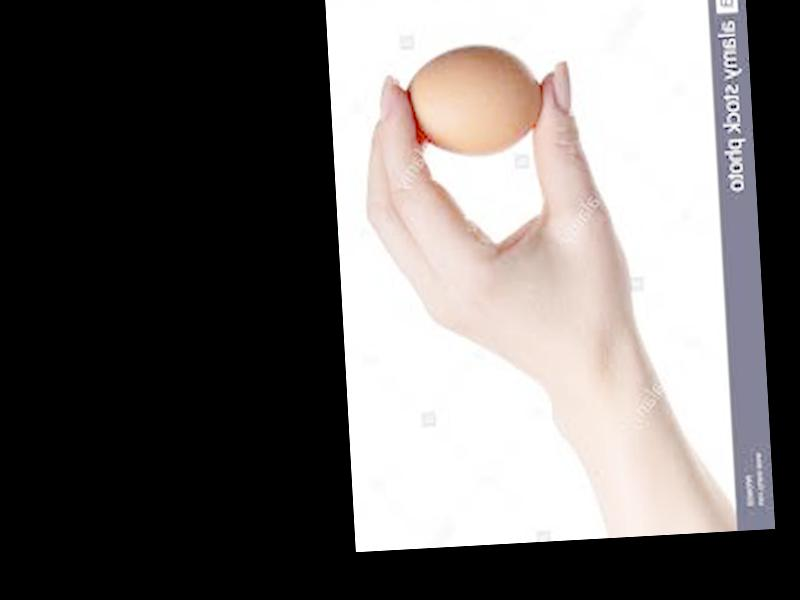Eggs: (404, 43, 542, 162)
